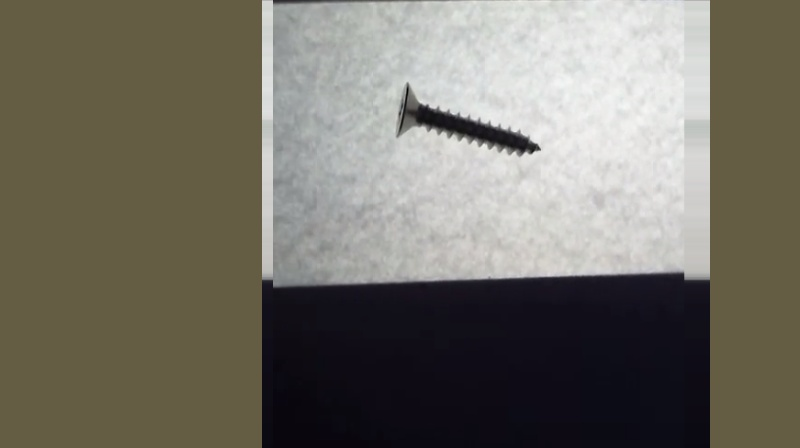S001: (394, 77, 544, 161)
